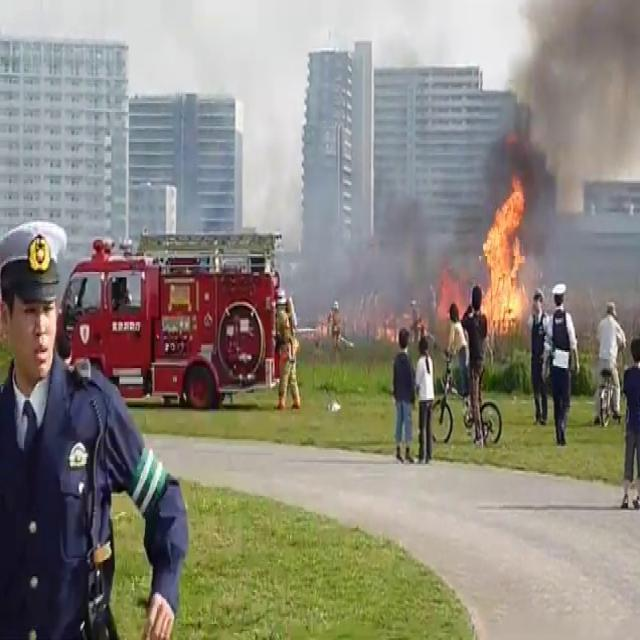Fire: (473, 174, 532, 334)
Smoke: (487, 0, 640, 210)
